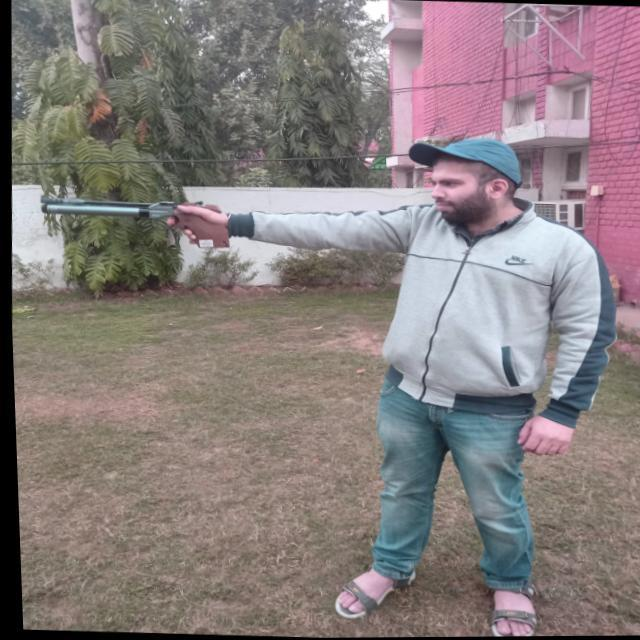weapon: (34, 190, 234, 252)
